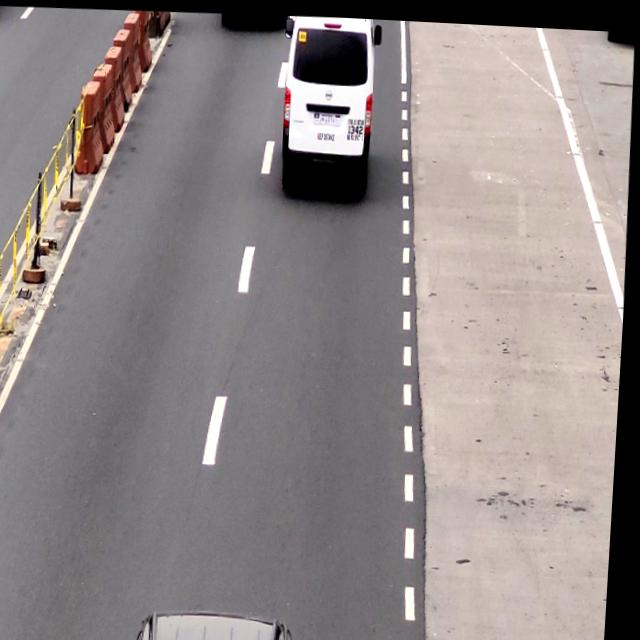Car: (274, 11, 382, 194), (140, 601, 304, 640)
